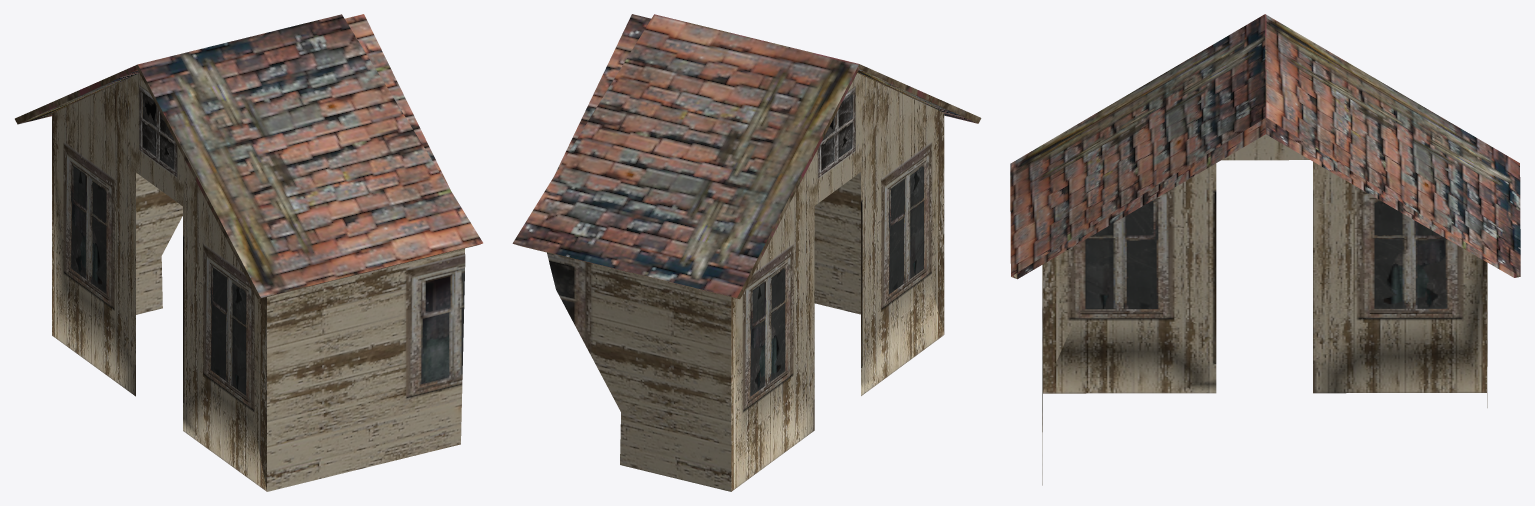
File: House_01_03.fbx
3 views of the same model, side by side, from view 1: azimuth 30°, elevation 25°; view 2: azimuth 150°, elevation 25°; view 3: azimuth 270°, elevation 25° (orthographic). The views are drawn at different scales.
Parts seen in each view (by area): view 1: Cube.004; view 2: Cube.004; view 3: Cube.004.
Boxes of the visible parts, x1,y1,x2,y2 form: Cube.004: (15,14,482,491); Cube.004: (512,14,981,491); Cube.004: (1010,14,1520,485).
Bounding box in the file's own units: 9.32 × 13.89 × 17.45.
